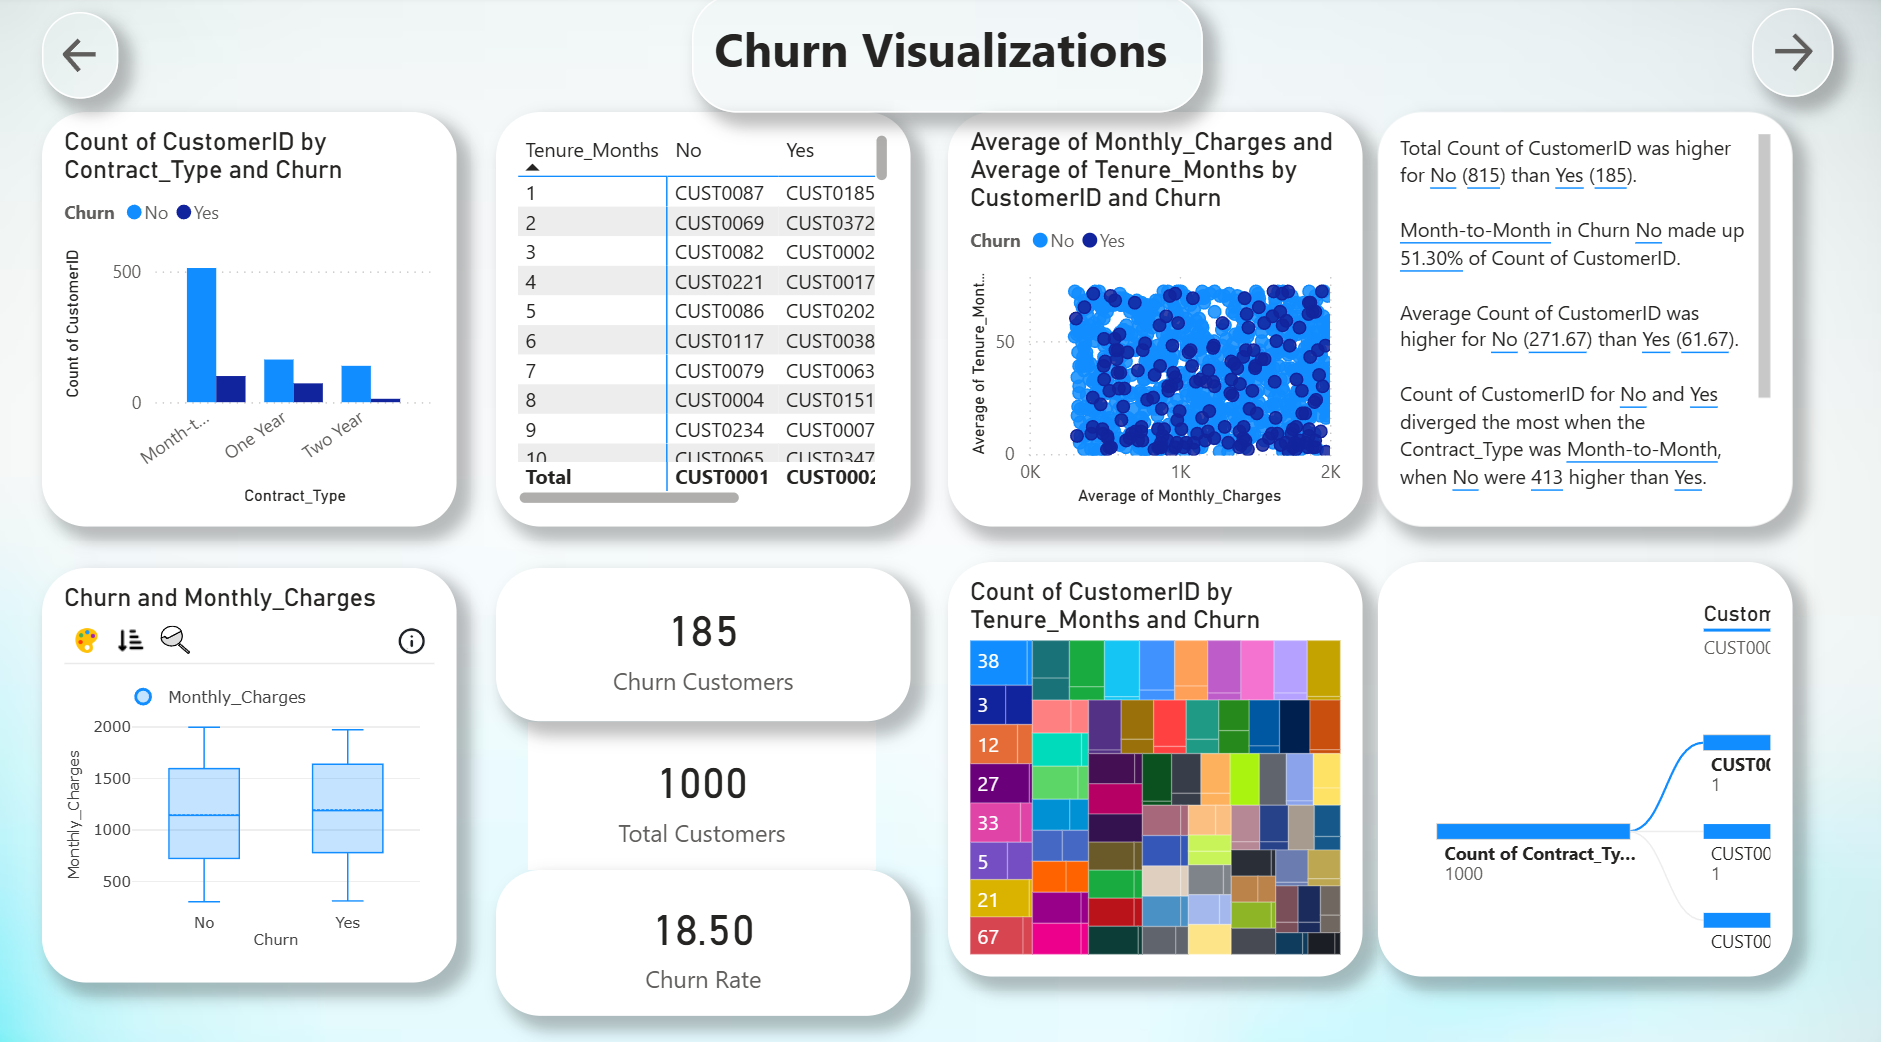

Layout of this report page (visuals, bound fields, positions):
{"tool":"powerbi","page":{"name":"Churn Visualizations","canvas":[1280,720],"ordinal":2},"visuals":[{"type":"clusteredColumnChart","fields":{"Category":["Customer_Churn_Data.Contract_Type"],"Series":["Customer_Churn_Data.Churn"],"Y":["CountNonNull(Customer_Churn_Data.CustomerID)"]},"box":[34,80,280,280],"z":0},{"type":"boxandwhiskerwithpoints3B3DF5C11B683E5DB4E630DD7899B035","fields":{"col_2":["Customer_Churn_Data.Monthly_Charges"],"col_0":["Customer_Churn_Data.Churn"]},"box":[34,388,280,280],"z":1000},{"type":"pivotTable","fields":{"Rows":["Customer_Churn_Data.Tenure_Months"],"Columns":["Customer_Churn_Data.Churn"],"Values":["Min(Customer_Churn_Data.CustomerID)"]},"box":[340,80,280,280],"z":2000},{"type":"card","fields":{"Values":["Customer_Churn_Data.Total Customers"]},"box":[361.7,491.7,235,100],"z":3000},{"type":"card","fields":{"Values":["Customer_Churn_Data.Churn Customers"]},"box":[340,388.3,280,103.3],"z":4000},{"type":"card","fields":{"Values":["Customer_Churn_Data.Churn Rate"]},"box":[340,591.7,280,98.3],"z":5000},{"type":"scatterChart","fields":{"X":["Avg(Customer_Churn_Data.Monthly_Charges)"],"Y":["Avg(Customer_Churn_Data.Tenure_Months)"],"Series":["Customer_Churn_Data.Churn"],"Category":["Customer_Churn_Data.CustomerID"]},"box":[646,80,280,280],"z":6000},{"type":"treemap","fields":{"Group":["Customer_Churn_Data.Tenure_Months"],"Values":["CountNonNull(Customer_Churn_Data.CustomerID)"],"Details":["Customer_Churn_Data.Churn"]},"box":[646,384,280,280],"z":7000},{"type":"textbox","box":[936,80,280,280],"z":8000},{"type":"decompositionTreeVisual","fields":{"Analyze":["CountNonNull(Customer_Churn_Data.Contract_Type)"],"ExplainBy":["Customer_Churn_Data.CustomerID","Customer_Churn_Data.Monthly_Charges"]},"box":[936,384,280,280],"z":9000},{"type":"textbox","box":[473.3,0,345,80],"z":10000},{"type":"actionButton","box":[33.3,11.7,51.7,58.3],"z":11000},{"type":"actionButton","box":[1188.3,10,55,60],"z":12000}]}

Visuals, with their boxes in screenshot pixels (x1, y1, x2, y2), scaled from the page's 1280x720 canvas onto the 1881x1042 screenshot:
clusteredColumnChart - Customer_Churn_Data.Contract_Type x Customer_Churn_Data.Churn: [50,116,461,521]
boxandwhiskerwithpoints3B3DF5C11B683E5DB4E630DD7899B035 - Customer_Churn_Data.Monthly_Charges x Customer_Churn_Data.Churn: [50,562,461,967]
pivotTable - Customer_Churn_Data.Tenure_Months x Customer_Churn_Data.Churn: [500,116,911,521]
card - Customer_Churn_Data.Total Customers: [532,712,877,856]
card - Customer_Churn_Data.Churn Customers: [500,562,911,711]
card - Customer_Churn_Data.Churn Rate: [500,856,911,999]
scatterChart - Avg(Customer_Churn_Data.Monthly_Charges) x Avg(Customer_Churn_Data.Tenure_Months): [949,116,1361,521]
treemap - Customer_Churn_Data.Tenure_Months x CountNonNull(Customer_Churn_Data.CustomerID): [949,556,1361,961]
textbox: [1375,116,1787,521]
decompositionTreeVisual - CountNonNull(Customer_Churn_Data.Contract_Type) x Customer_Churn_Data.CustomerID: [1375,556,1787,961]
textbox: [696,0,1203,116]
actionButton: [49,17,125,101]
actionButton: [1746,14,1827,101]
